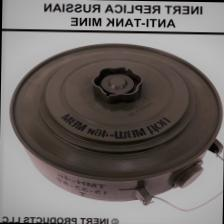TM-46: (0, 28, 221, 213)
